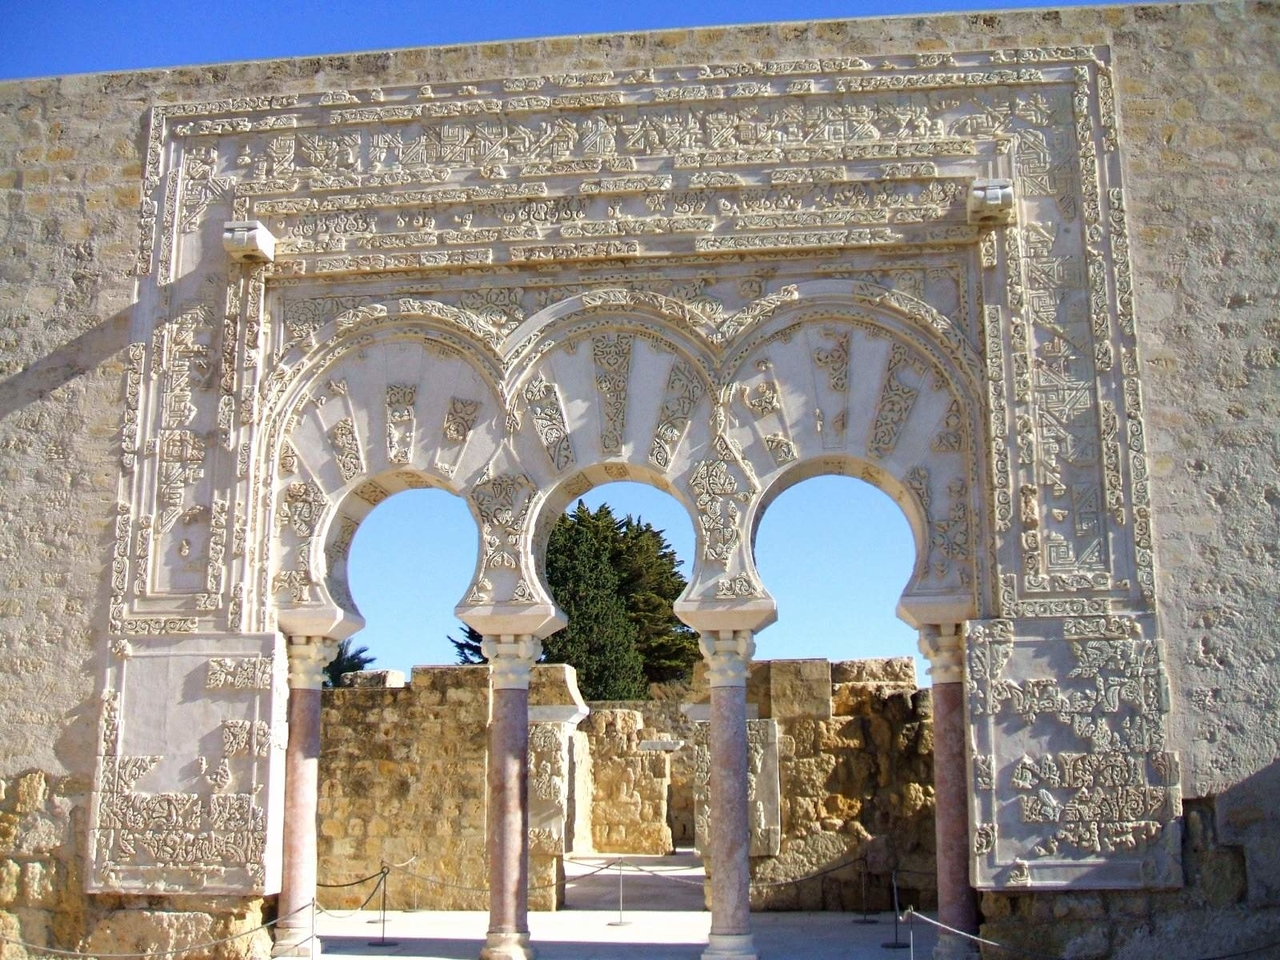arco-herradura: (504, 443, 727, 661), (290, 443, 510, 659), (731, 440, 949, 654)
